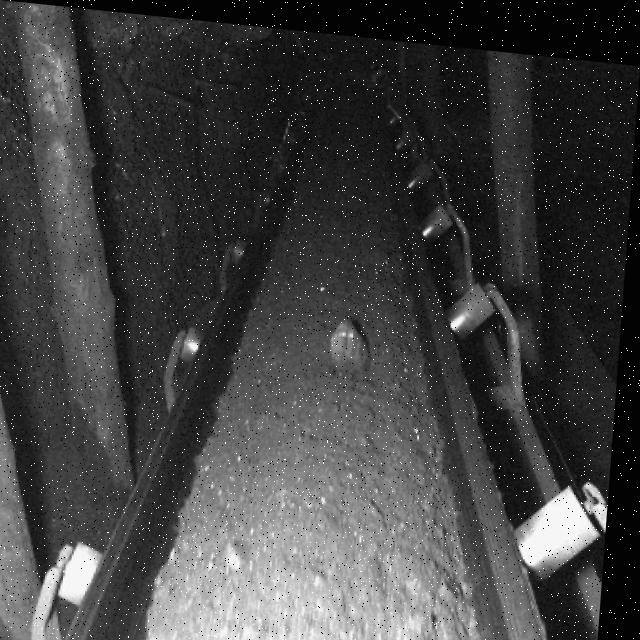large_sized_coal: (333, 313, 376, 365)
